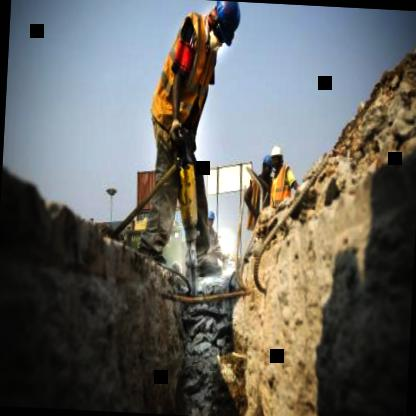helmet: (200, 0, 239, 48), (268, 142, 284, 172), (258, 153, 274, 179), (204, 205, 216, 229)
